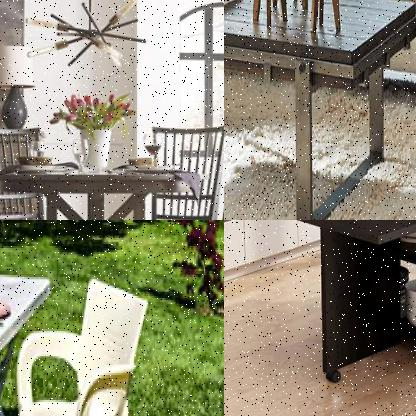table: (224, 0, 415, 219), (224, 220, 415, 391), (0, 154, 210, 219)
